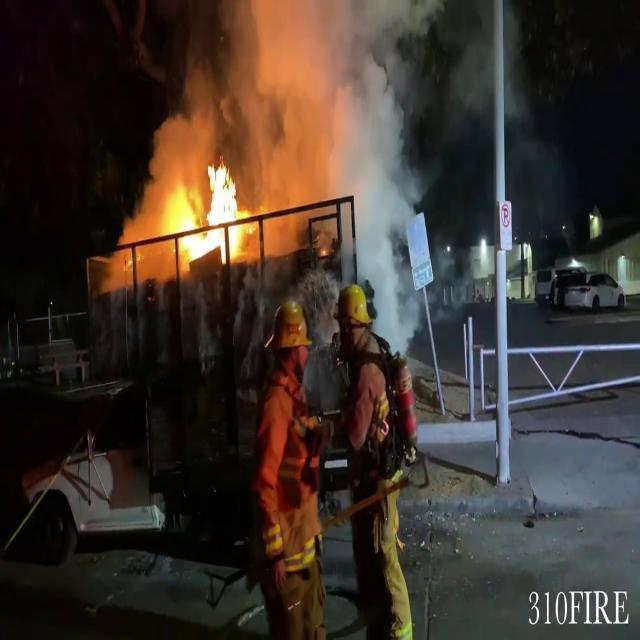Fire: (158, 156, 260, 274)
Smoke: (157, 0, 429, 232)
